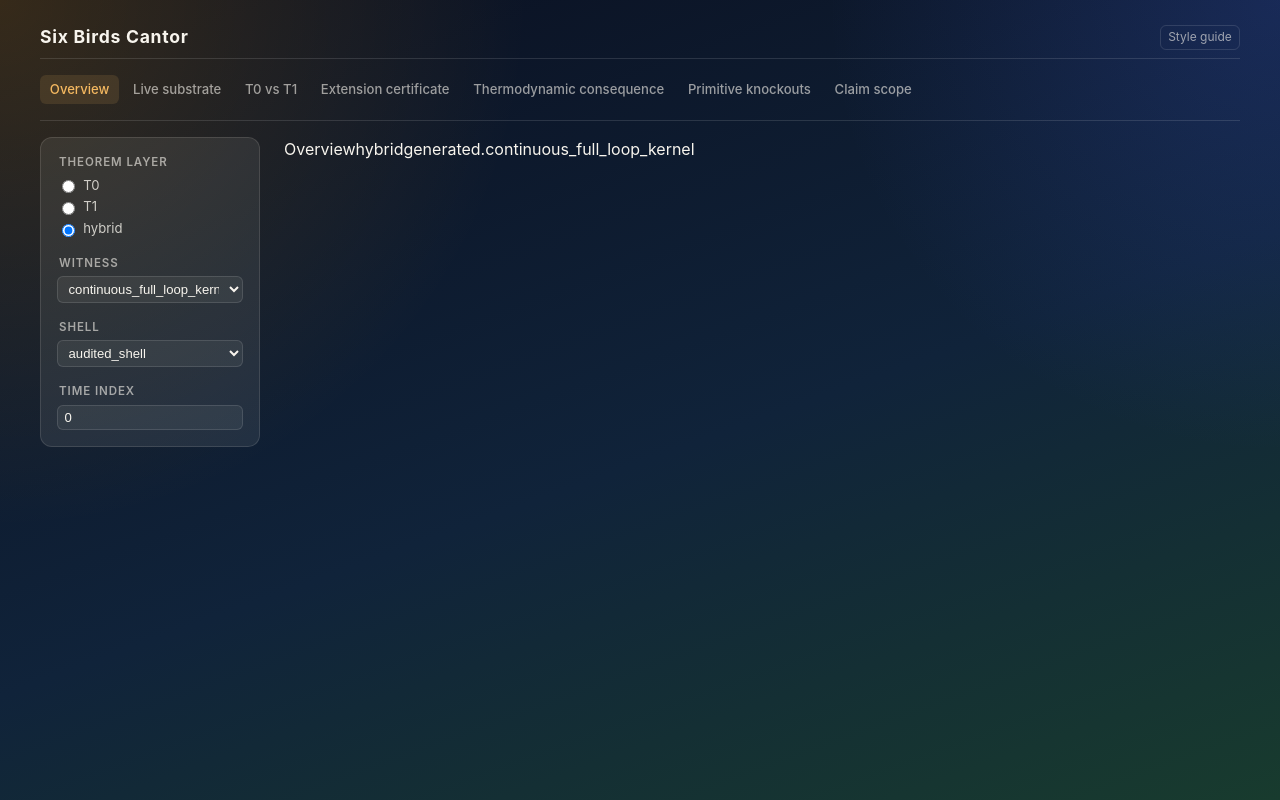
it: AppShell › navigates to a different section
Click the link "Live substrate": (177, 89) left=133, top=81, right=221, bottom=97
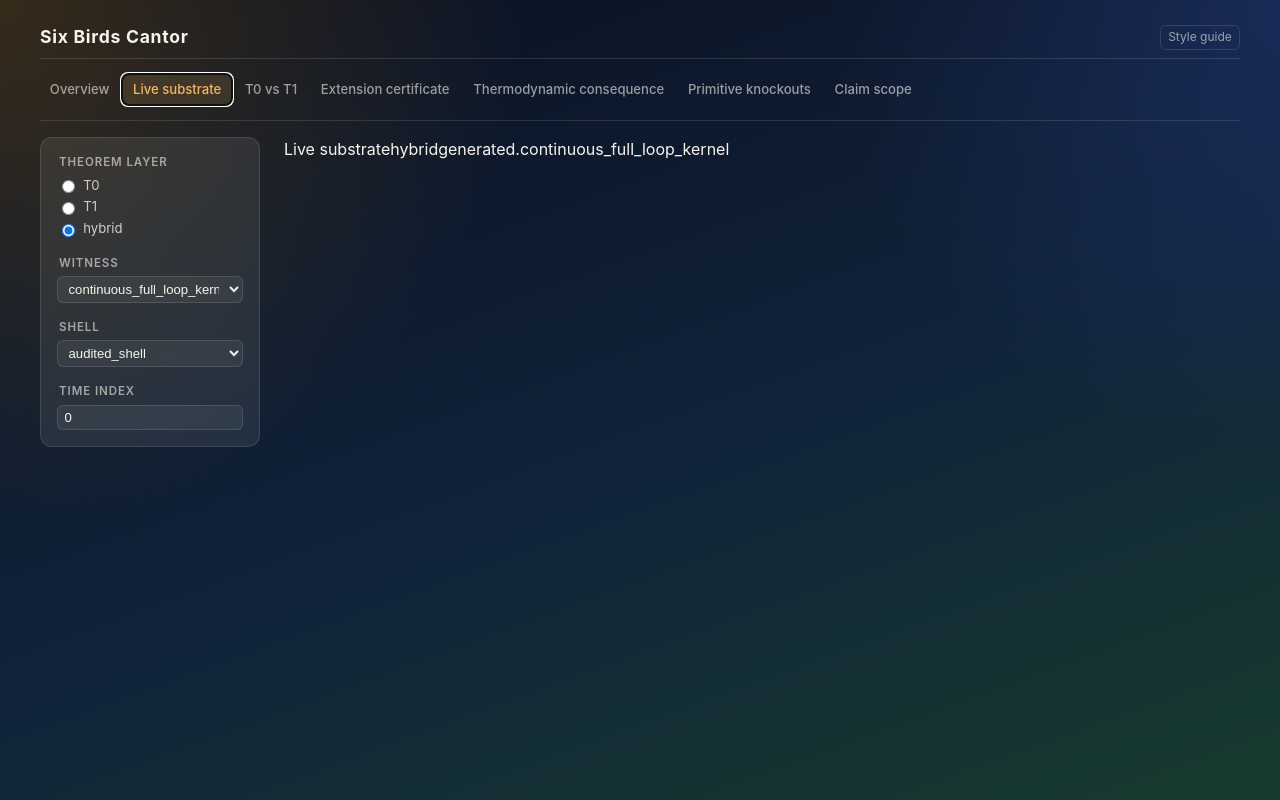
expect the text with test id "page-label" reads "Live substrate": met, box left=284, top=139, right=390, bottom=159
